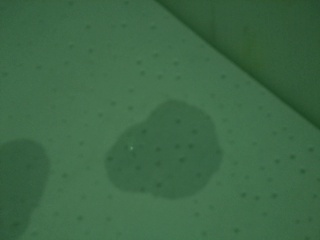Water_detected: (112, 105, 207, 184), (0, 154, 39, 215)
